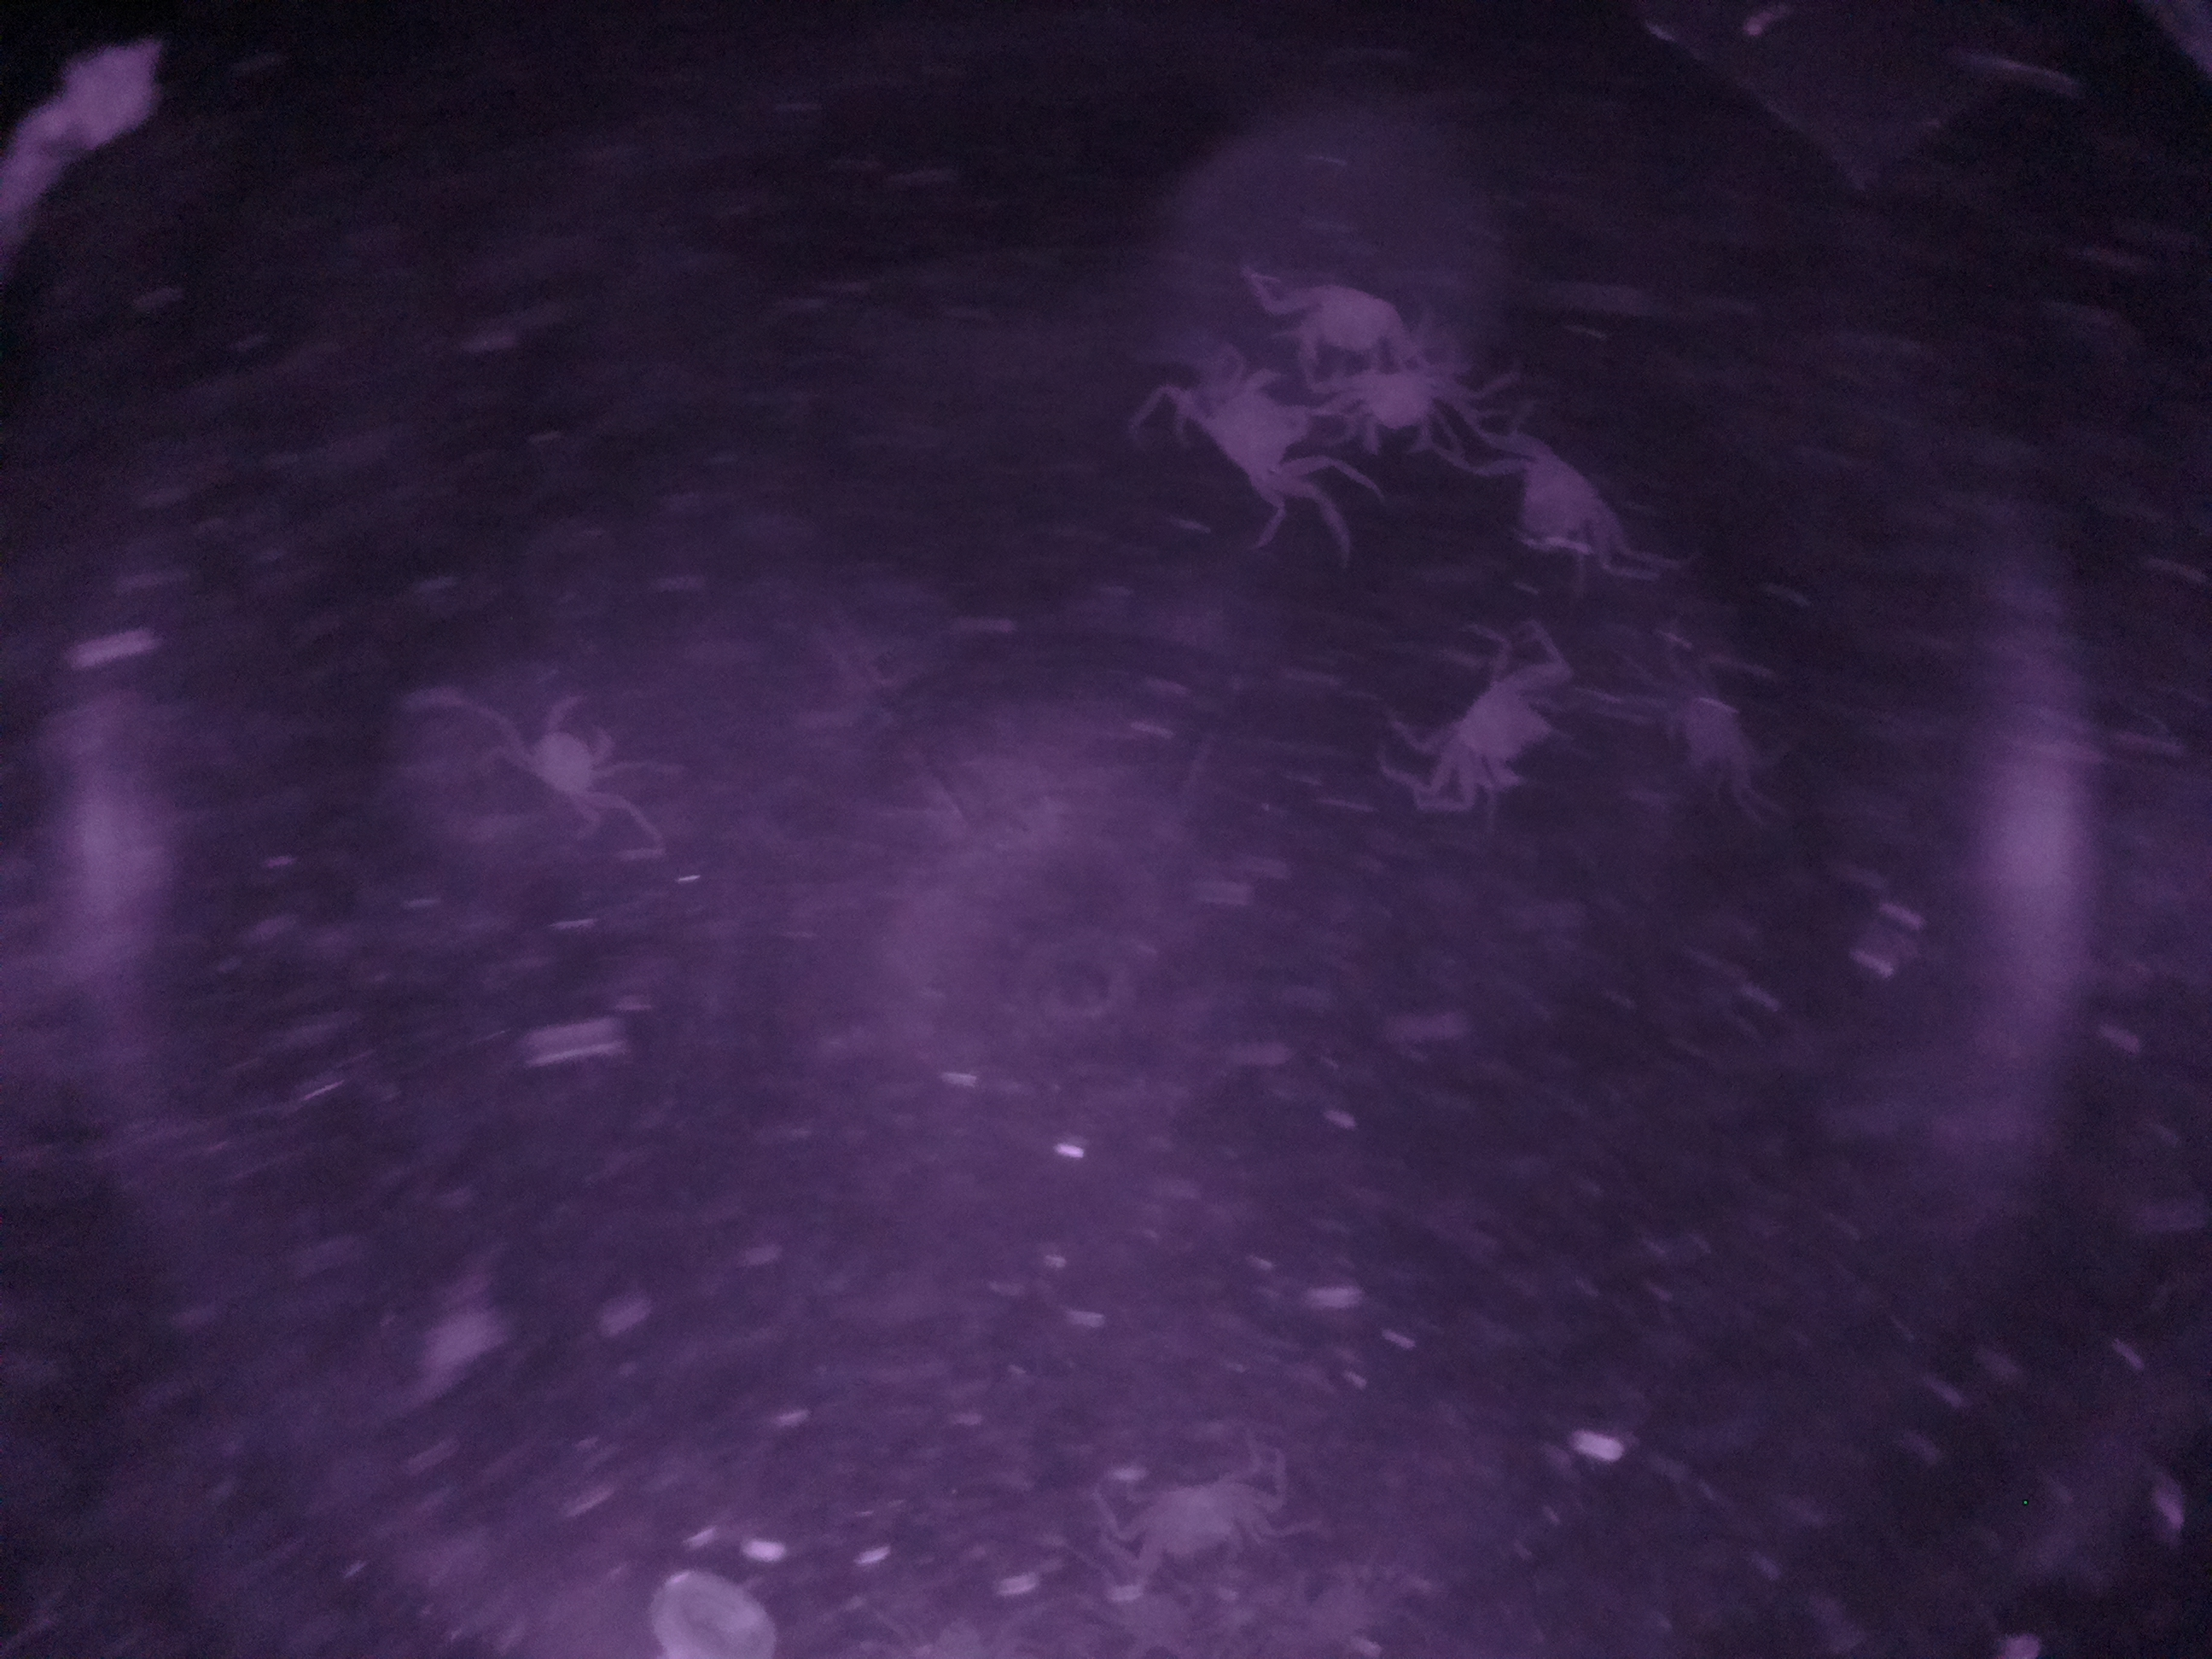Crab: (1378, 615, 1587, 833)
